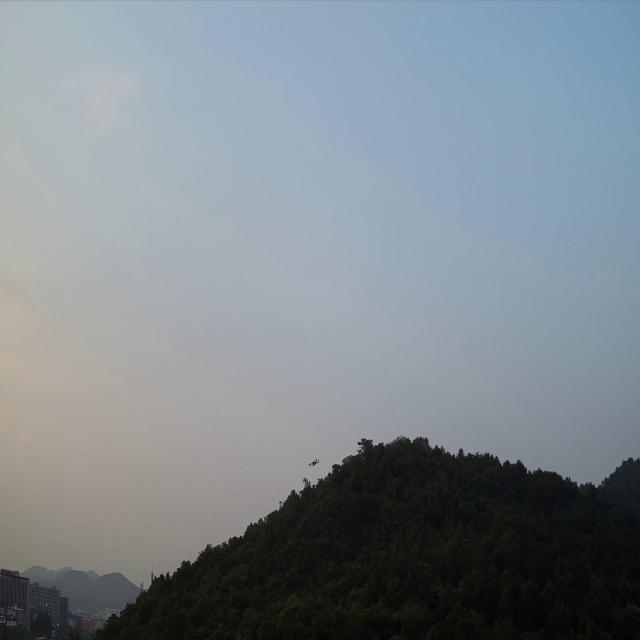UAV: (308, 456, 321, 468)
